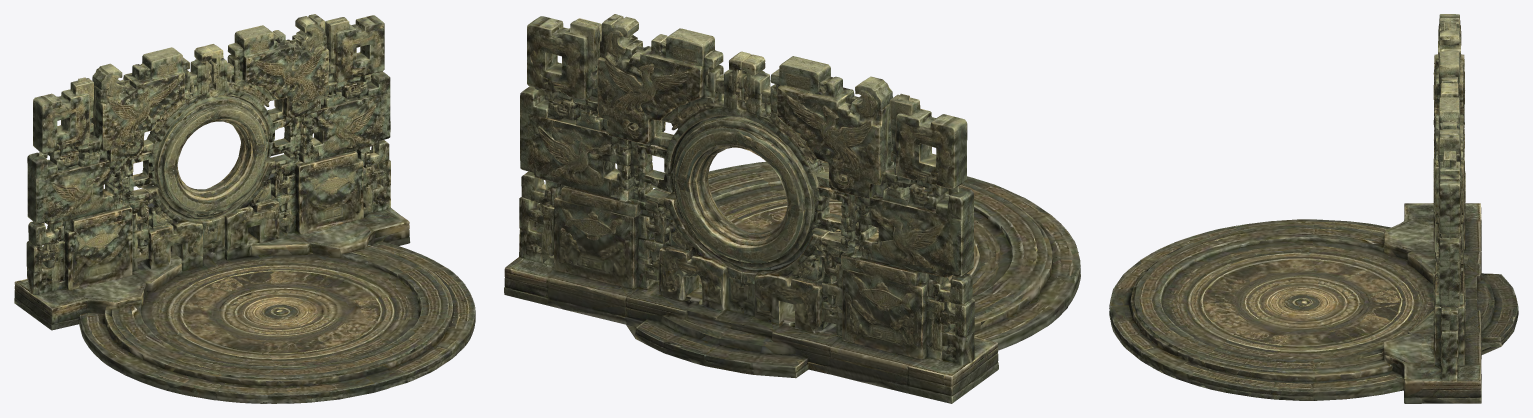
File: 08-bronze-pattern.glb
3 views of the same model, side by side, from view 1: azimuth 30°, elevation 25°; view 2: azimuth 150°, elevation 25°; view 3: azimuth 270°, elevation 25° (orthographic). The views are drawn at different scales.
Visible parts, largest first — view 1: mesh_node; view 2: mesh_node; view 3: mesh_node.
Boxes of the visible parts, bbox=[...] form: mesh_node: bbox=[14, 14, 475, 403]; mesh_node: bbox=[504, 14, 1080, 403]; mesh_node: bbox=[1109, 14, 1518, 403].
Size of the model in its own units: 1.9 by 1.16 by 1.83.
Materials: 1 (1 with a texture image).
